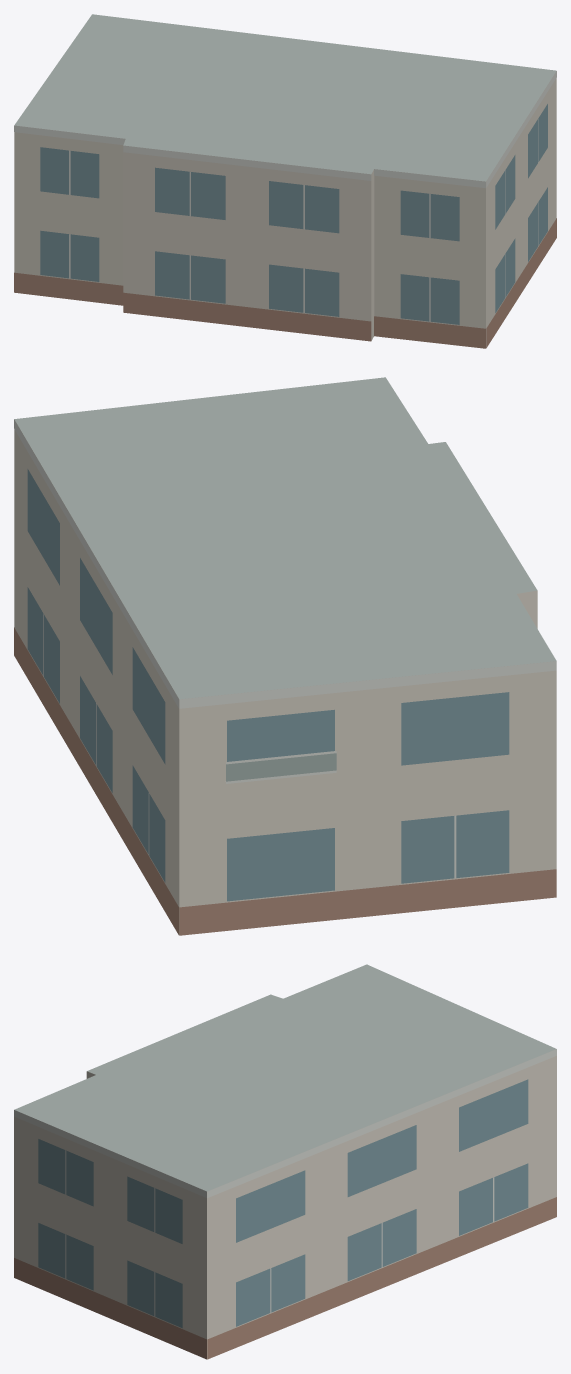
File: survey-upis-32881706.glb
3 renders of one model, top to bottom at view 1: azimuth 30°, elevation 25°; view 2: azimuth 150°, elevation 25°; view 3: azimuth 270°, elevation 25°, orthographic. The views are drawn at different scales.
Parts seen in each view (by area): view 1: survey-upis-32881706.tmp; view 2: survey-upis-32881706.tmp; view 3: survey-upis-32881706.tmp.
Part boxes in pixels (bbox=[...]): survey-upis-32881706.tmp: bbox=[14, 14, 556, 348]; survey-upis-32881706.tmp: bbox=[14, 377, 556, 935]; survey-upis-32881706.tmp: bbox=[14, 964, 556, 1359].
Size of the model in its own units: 17.7 by 6.1 by 17.87.
